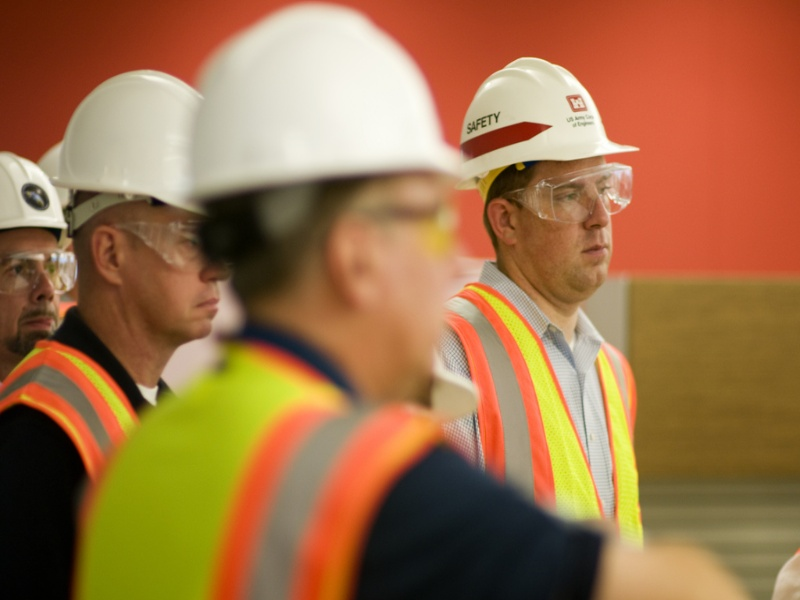helmet: (190, 2, 469, 195), (49, 68, 219, 213), (462, 54, 630, 172), (1, 155, 77, 237)
jacket: (75, 349, 441, 600), (460, 275, 645, 553), (8, 336, 142, 468)
